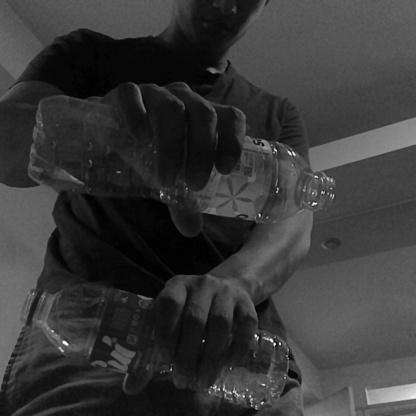plastic_bottles: (29, 96, 335, 221), (20, 282, 292, 408)
